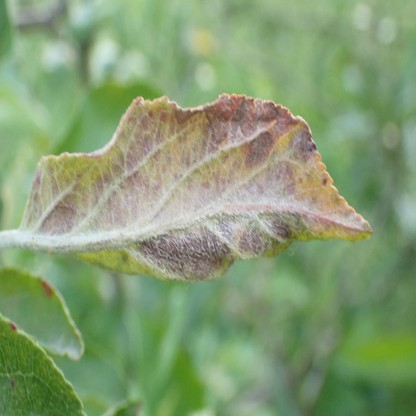frogeye_leaf_spot: (39, 281, 53, 297)
powdery_mildew: (19, 94, 372, 280)
